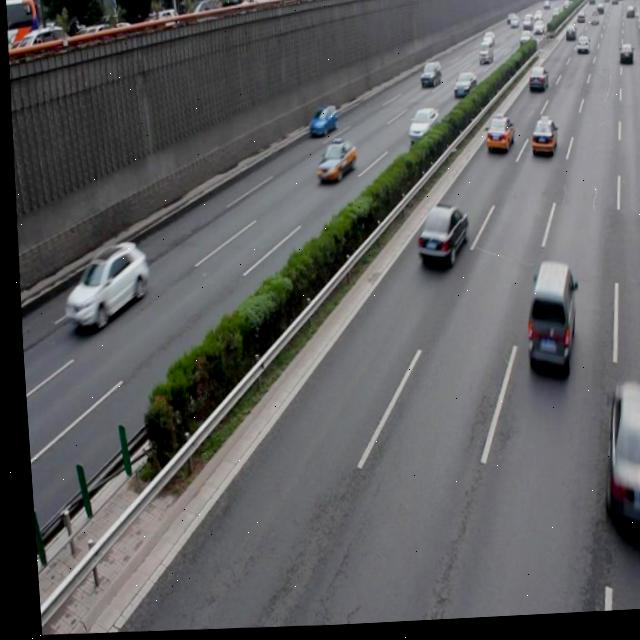car: (55, 239, 148, 332), (591, 383, 640, 542), (409, 206, 465, 269), (310, 140, 354, 185), (304, 106, 337, 142), (404, 108, 436, 145), (481, 119, 511, 158), (525, 122, 555, 160)
truck: (515, 263, 573, 378)
